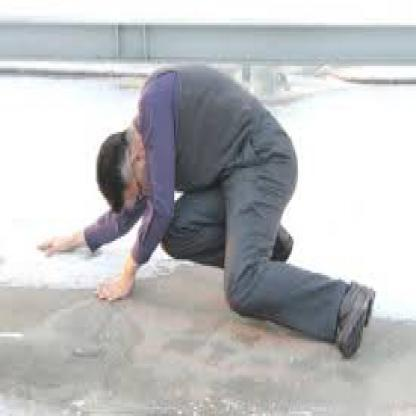Fall_Down: (38, 66, 378, 359)
